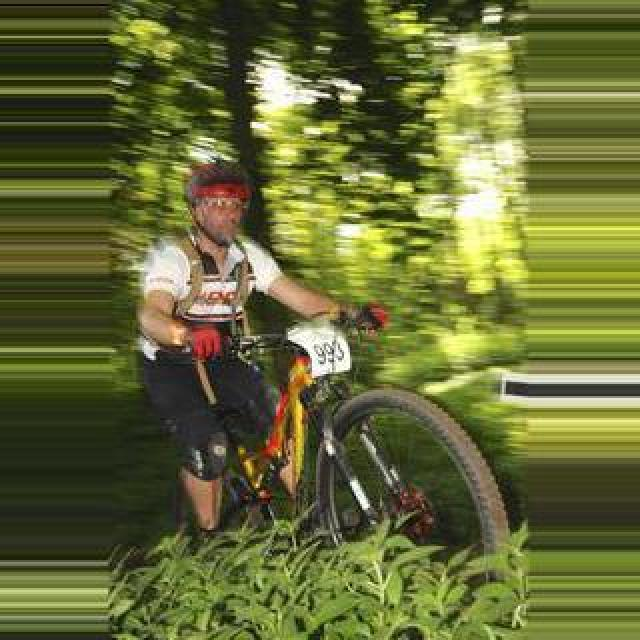MC-Bike: (136, 166, 366, 548)
Person: (133, 315, 513, 553)
